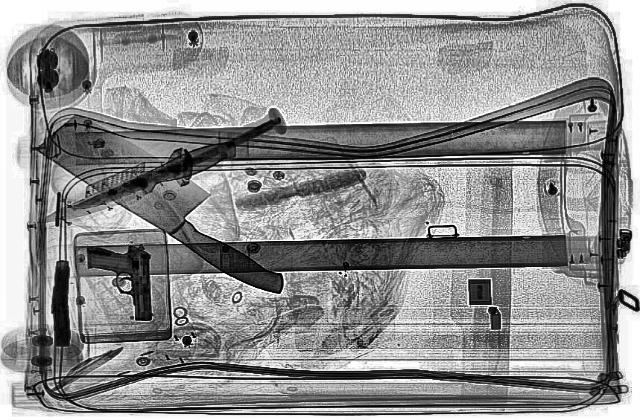Gun: (86, 244, 152, 322), (51, 260, 70, 348)
Knife: (21, 112, 330, 298), (25, 138, 247, 232), (67, 116, 283, 212)
